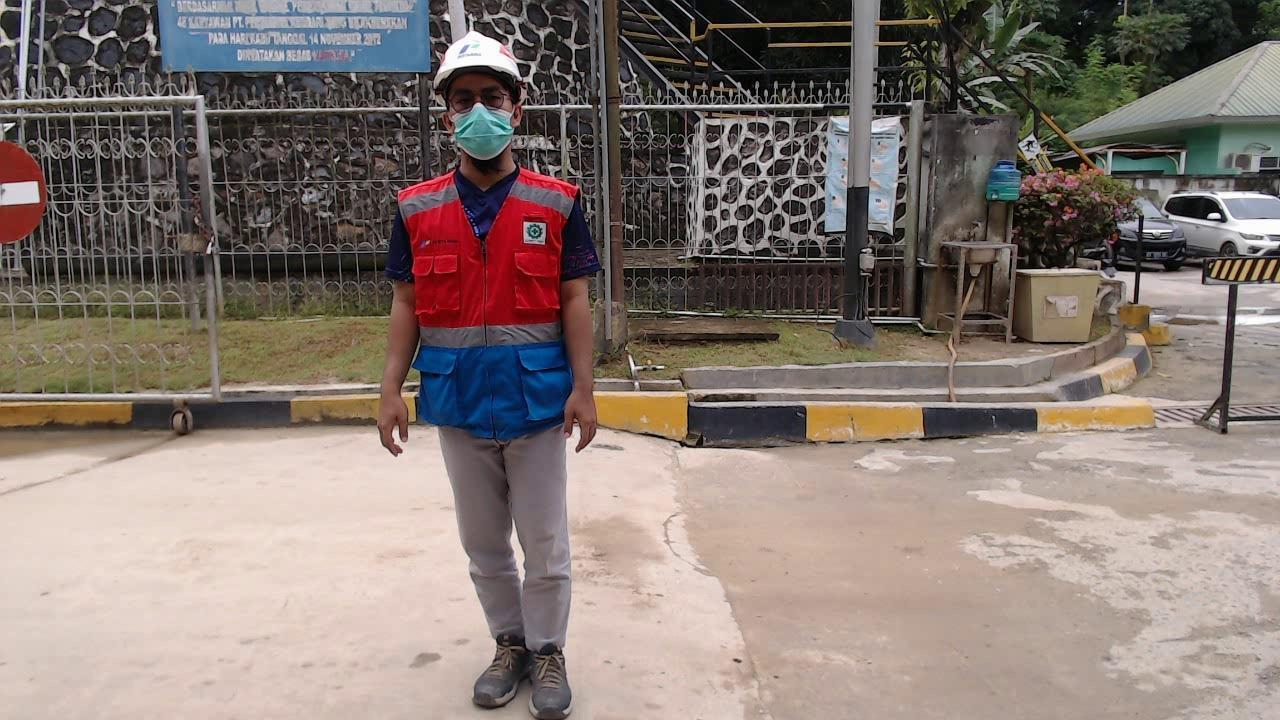helmet: (427, 30, 534, 91)
